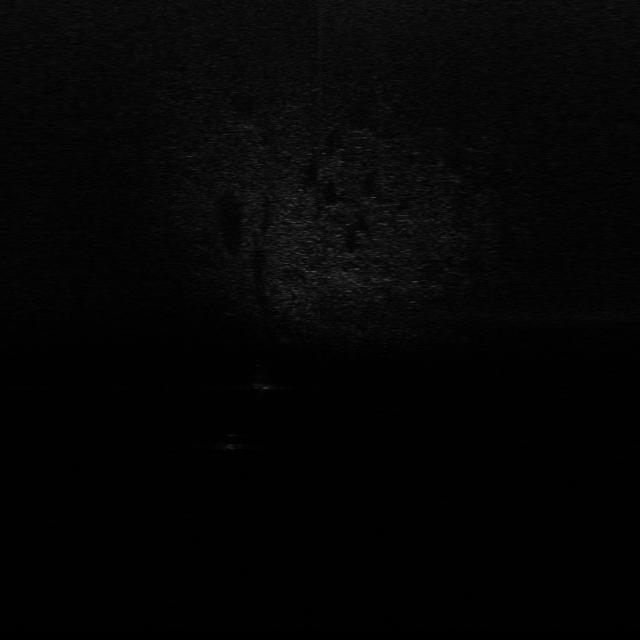ball: (212, 429, 247, 454)
human body: (256, 357, 278, 400)
